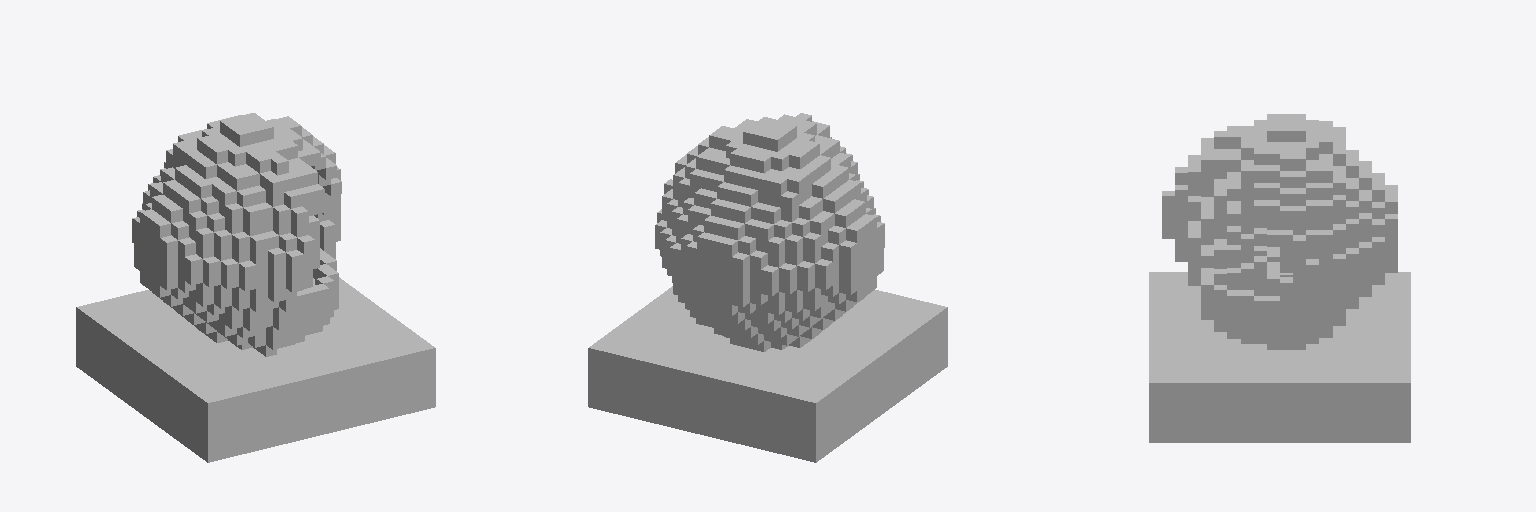
Rendered from twilight quartz.obj.
The picture shows the model from 3 angles: view 1: azimuth 30°, elevation 25°; view 2: azimuth 150°, elevation 25°; view 3: azimuth 270°, elevation 25°; orthographic projection.
Parts seen in each view (by area): view 1: twilight_quartz; view 2: twilight_quartz; view 3: twilight_quartz.
Part boxes in pixels (left/top/right/bottom): twilight_quartz: left=76, top=113, right=435, bottom=462; twilight_quartz: left=588, top=113, right=947, bottom=462; twilight_quartz: left=1149, top=114, right=1410, bottom=442.
Bounding box in the file's own units: 1 × 1.1 × 1.